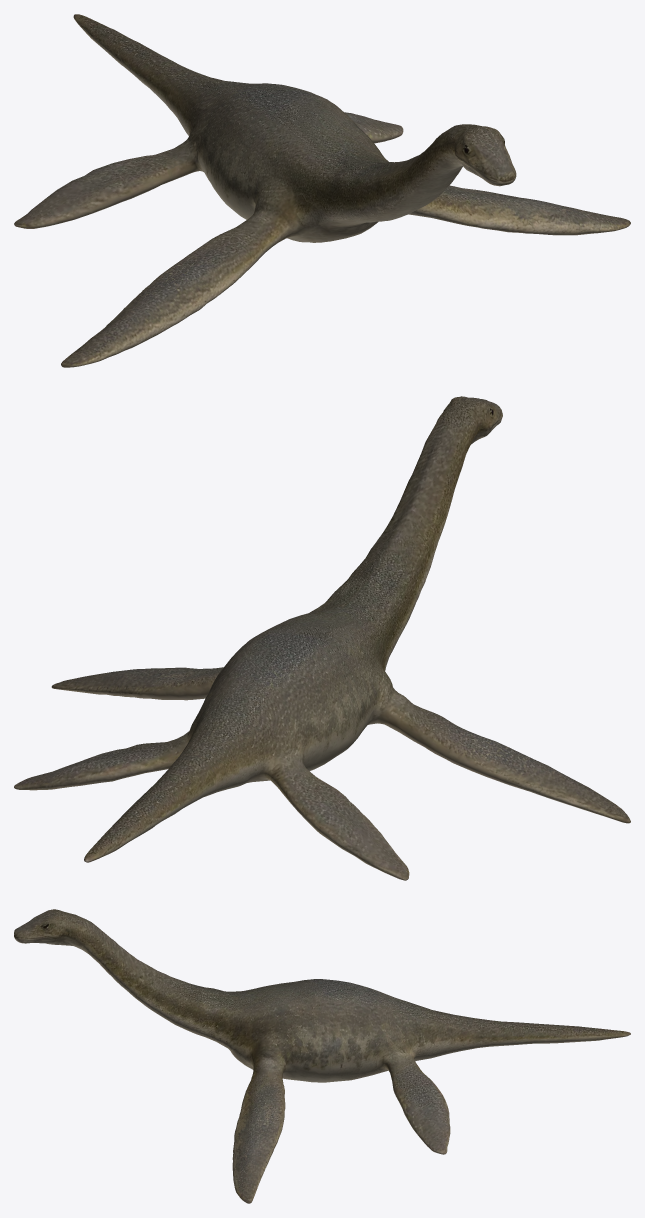
The model's file is plesiosaurus.glb.
The picture shows the model from 3 angles, top to bottom: view 1: azimuth 30°, elevation 25°; view 2: azimuth 150°, elevation 25°; view 3: azimuth 270°, elevation 25°; orthographic projection. The views are drawn at different scales.
Parts seen in each view (by area): view 1: dino; view 2: dino; view 3: dino.
Boxes of the visible parts, x1,y1,x2,y2 form: dino: [14, 14, 630, 367]; dino: [14, 396, 630, 880]; dino: [14, 909, 630, 1203].
Bounding box in the file's own units: 2.75 × 1.2 × 3.5.
Materials: 1 (1 with a texture image).
